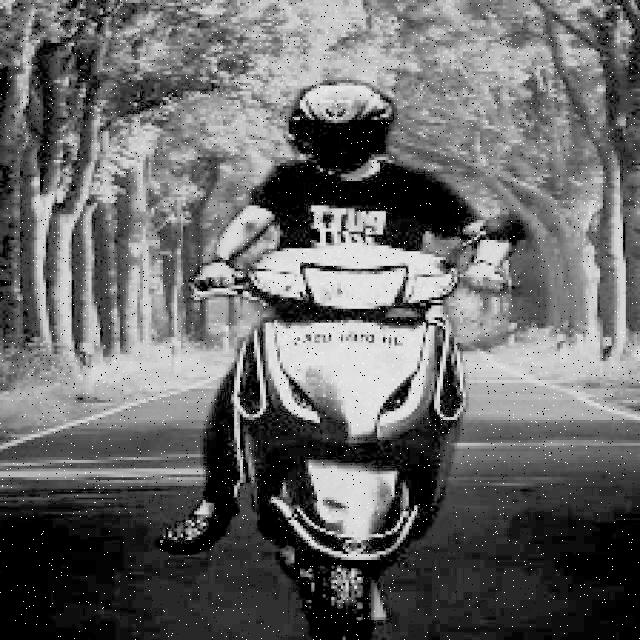Bike: (238, 241, 478, 621)
